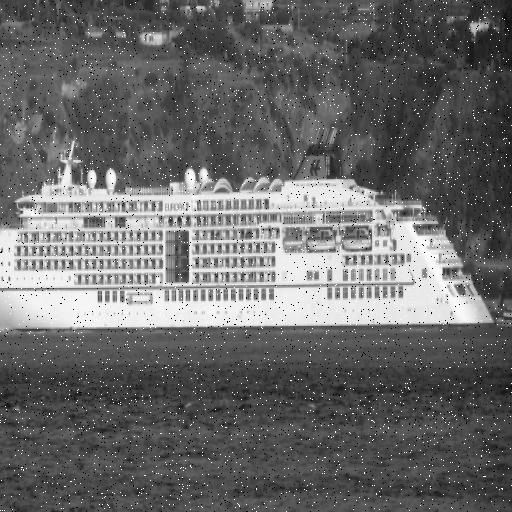cruises: (1, 132, 503, 349)
